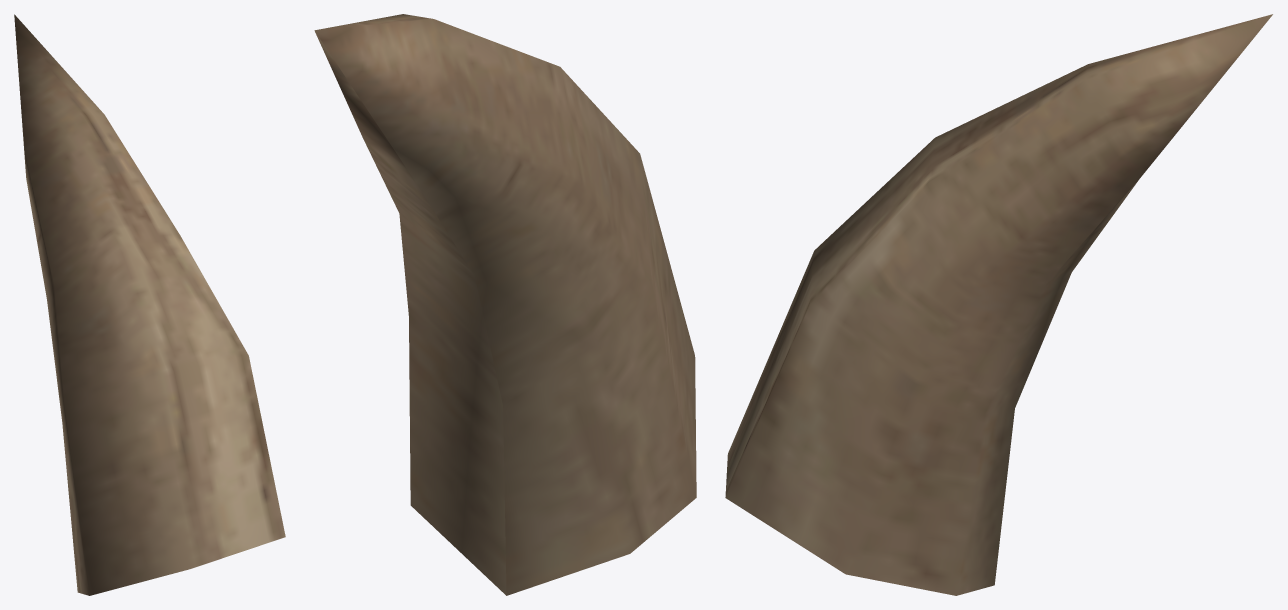
File: Item_5007_gutou_suigu02.FBX
3 views of the same model, side by side, from view 1: azimuth 30°, elevation 25°; view 2: azimuth 150°, elevation 25°; view 3: azimuth 270°, elevation 25° (orthographic). The views are drawn at different scales.
Parts seen in each view (by area): view 1: Item_5007_gutou_suigu02; view 2: Item_5007_gutou_suigu02; view 3: Item_5007_gutou_suigu02.
Part boxes in pixels (x1=…): Item_5007_gutou_suigu02: x1=14, y1=14, x2=285, y2=595; Item_5007_gutou_suigu02: x1=314, y1=14, x2=696, y2=595; Item_5007_gutou_suigu02: x1=725, y1=14, x2=1272, y2=595.
Bounding box in the file's own units: 34.4 × 83.29 × 70.78.
